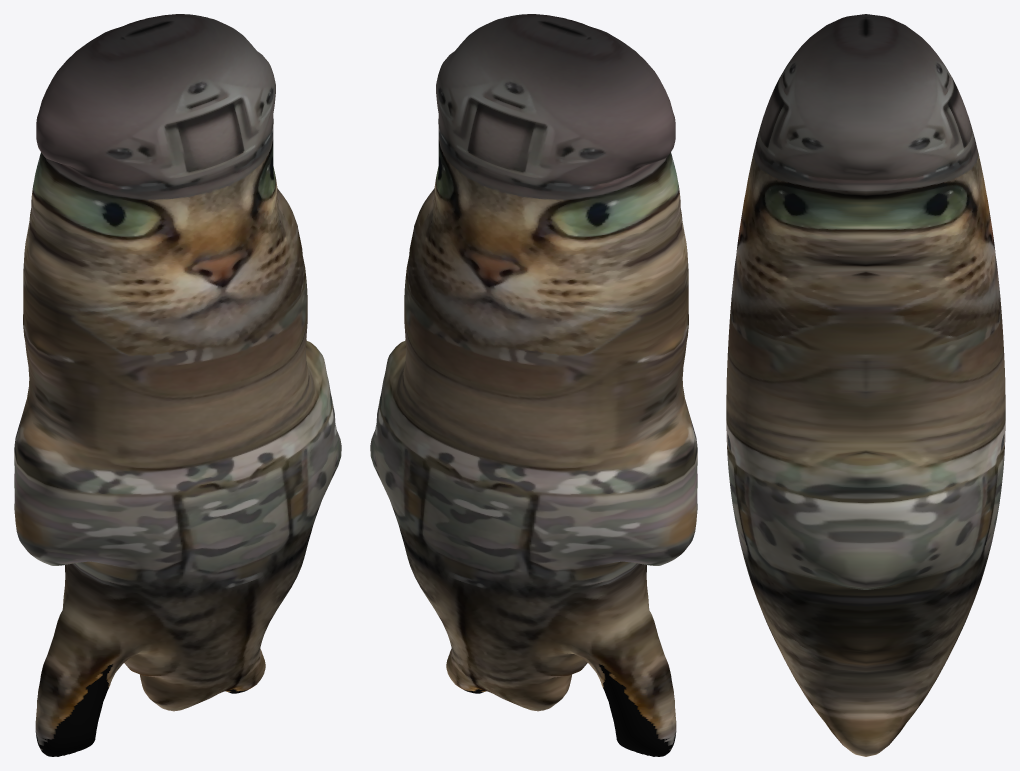
The picture shows the model from 3 angles, left to right: view 1: azimuth 30°, elevation 25°; view 2: azimuth 150°, elevation 25°; view 3: azimuth 270°, elevation 25°; orthographic projection.
Visible parts, largest first — view 1: mm_frame; view 2: mm_frame; view 3: mm_frame.
Boxes of the visible parts, x1,y1,x2,y2 form: mm_frame: [14, 14, 341, 756]; mm_frame: [370, 14, 697, 756]; mm_frame: [726, 14, 1005, 756].
Size of the model in its own units: 3.57 by 7.7 by 2.76.
1 material, 1 textured.
